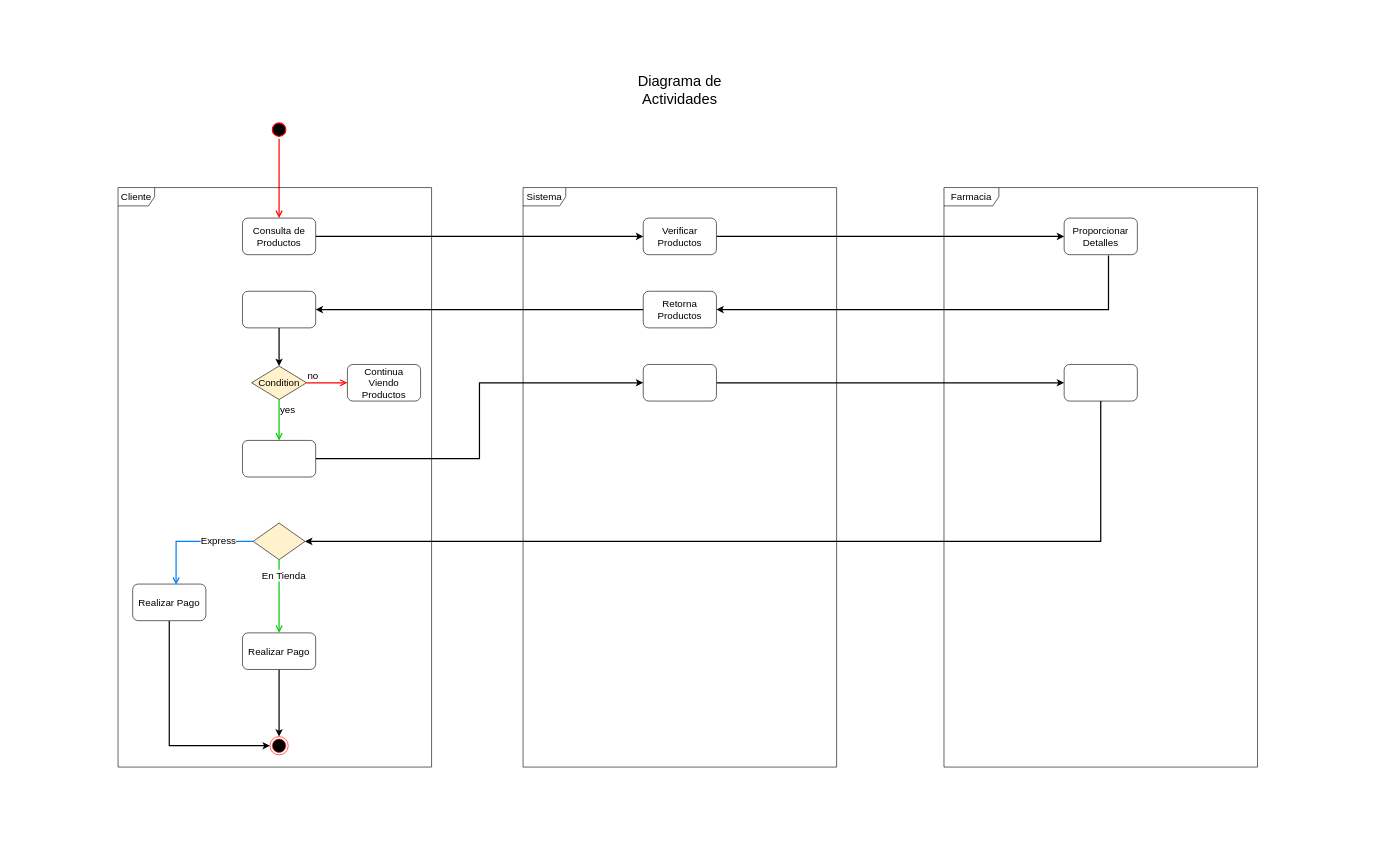
This 1388x863 diagram has some shape labels left out. The box of each missing label's shape, as (x1, y1, x2, y2) in pixels:
Añadir al Carrito de Compras: (242, 440, 316, 477)
Escoger Producto: (242, 291, 316, 328)
Generar Cobro: (1064, 364, 1137, 401)
Solicitar Pago: (643, 364, 716, 401)
Tipo Envio: (253, 522, 305, 560)
